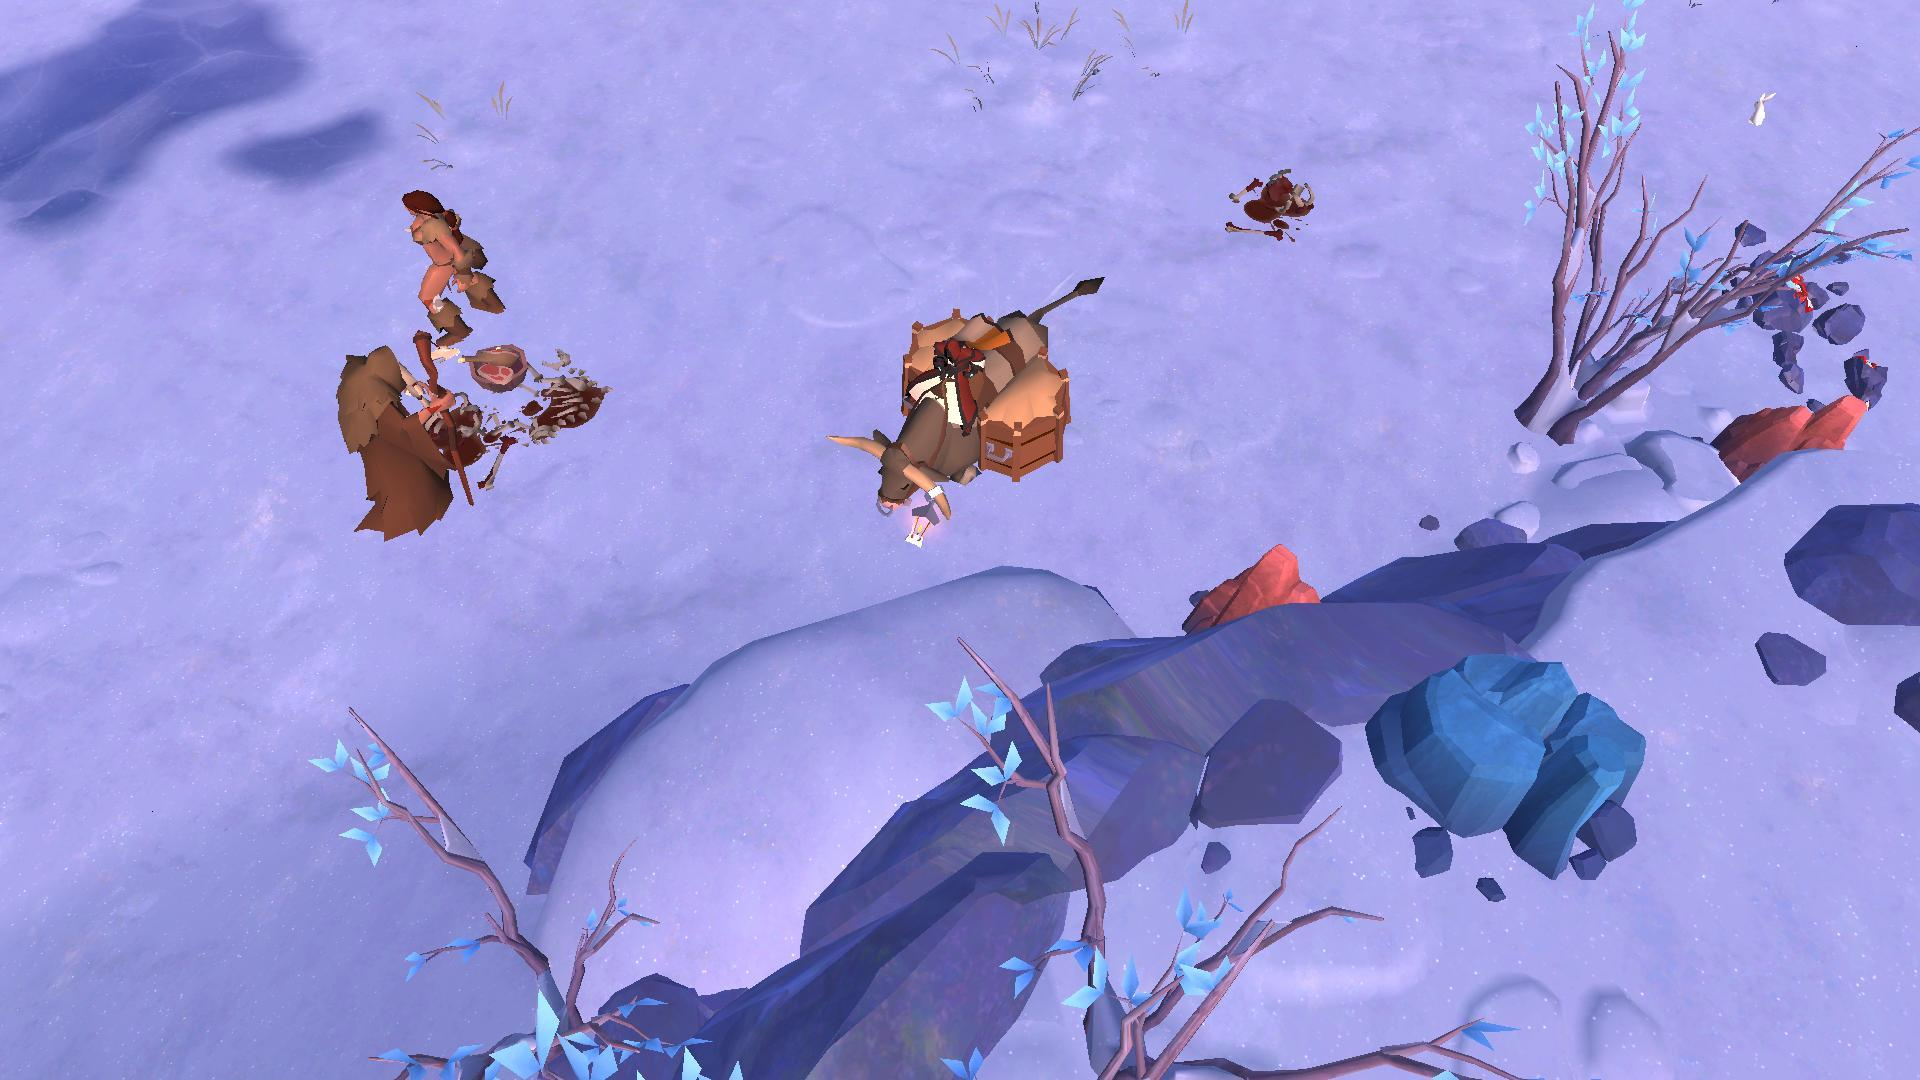enemy_factionKeeper: (326, 347, 475, 551), (396, 187, 518, 345)
rock_t4: (1369, 645, 1646, 885)
rock_t5: (1709, 382, 1859, 498), (1187, 541, 1327, 646)
